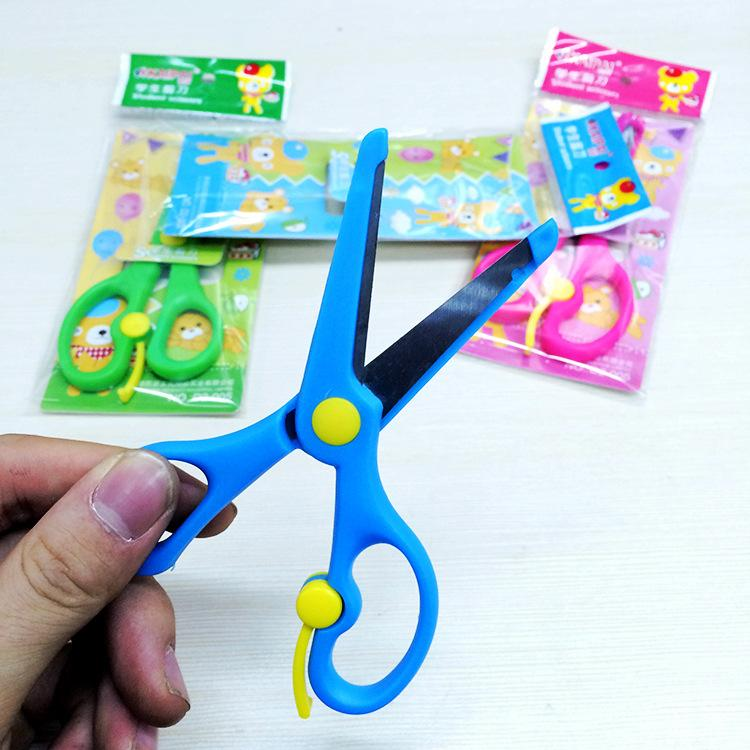scissor: (118, 141, 534, 634)
